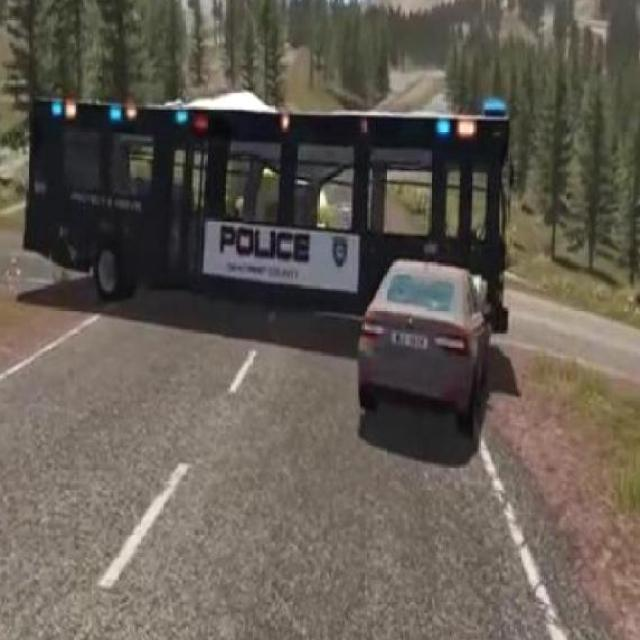accident: (316, 182, 528, 396)
